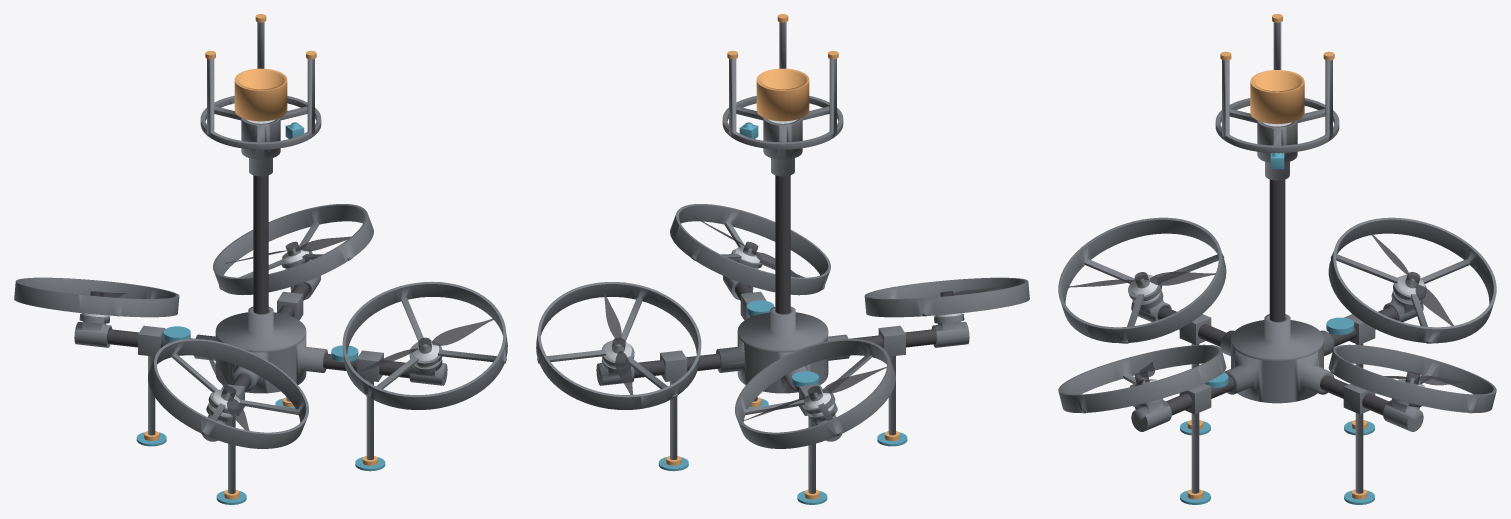
File: daedalus.glb
The picture shows the model from 3 angles, left to right: view 1: azimuth 30°, elevation 25°; view 2: azimuth 150°, elevation 25°; view 3: azimuth 270°, elevation 25°; orthographic projection. The views are drawn at different scales.
Parts seen in each view (by area): view 1: Daedalus V1; view 2: Daedalus V1; view 3: Daedalus V1.
Boxes of the visible parts, x1,y1,x2,y2 form: Daedalus V1: [14, 14, 507, 504]; Daedalus V1: [536, 14, 1029, 504]; Daedalus V1: [1058, 14, 1496, 504].
Size of the model in its own units: 0.5184 by 0.6022 by 0.5668.
